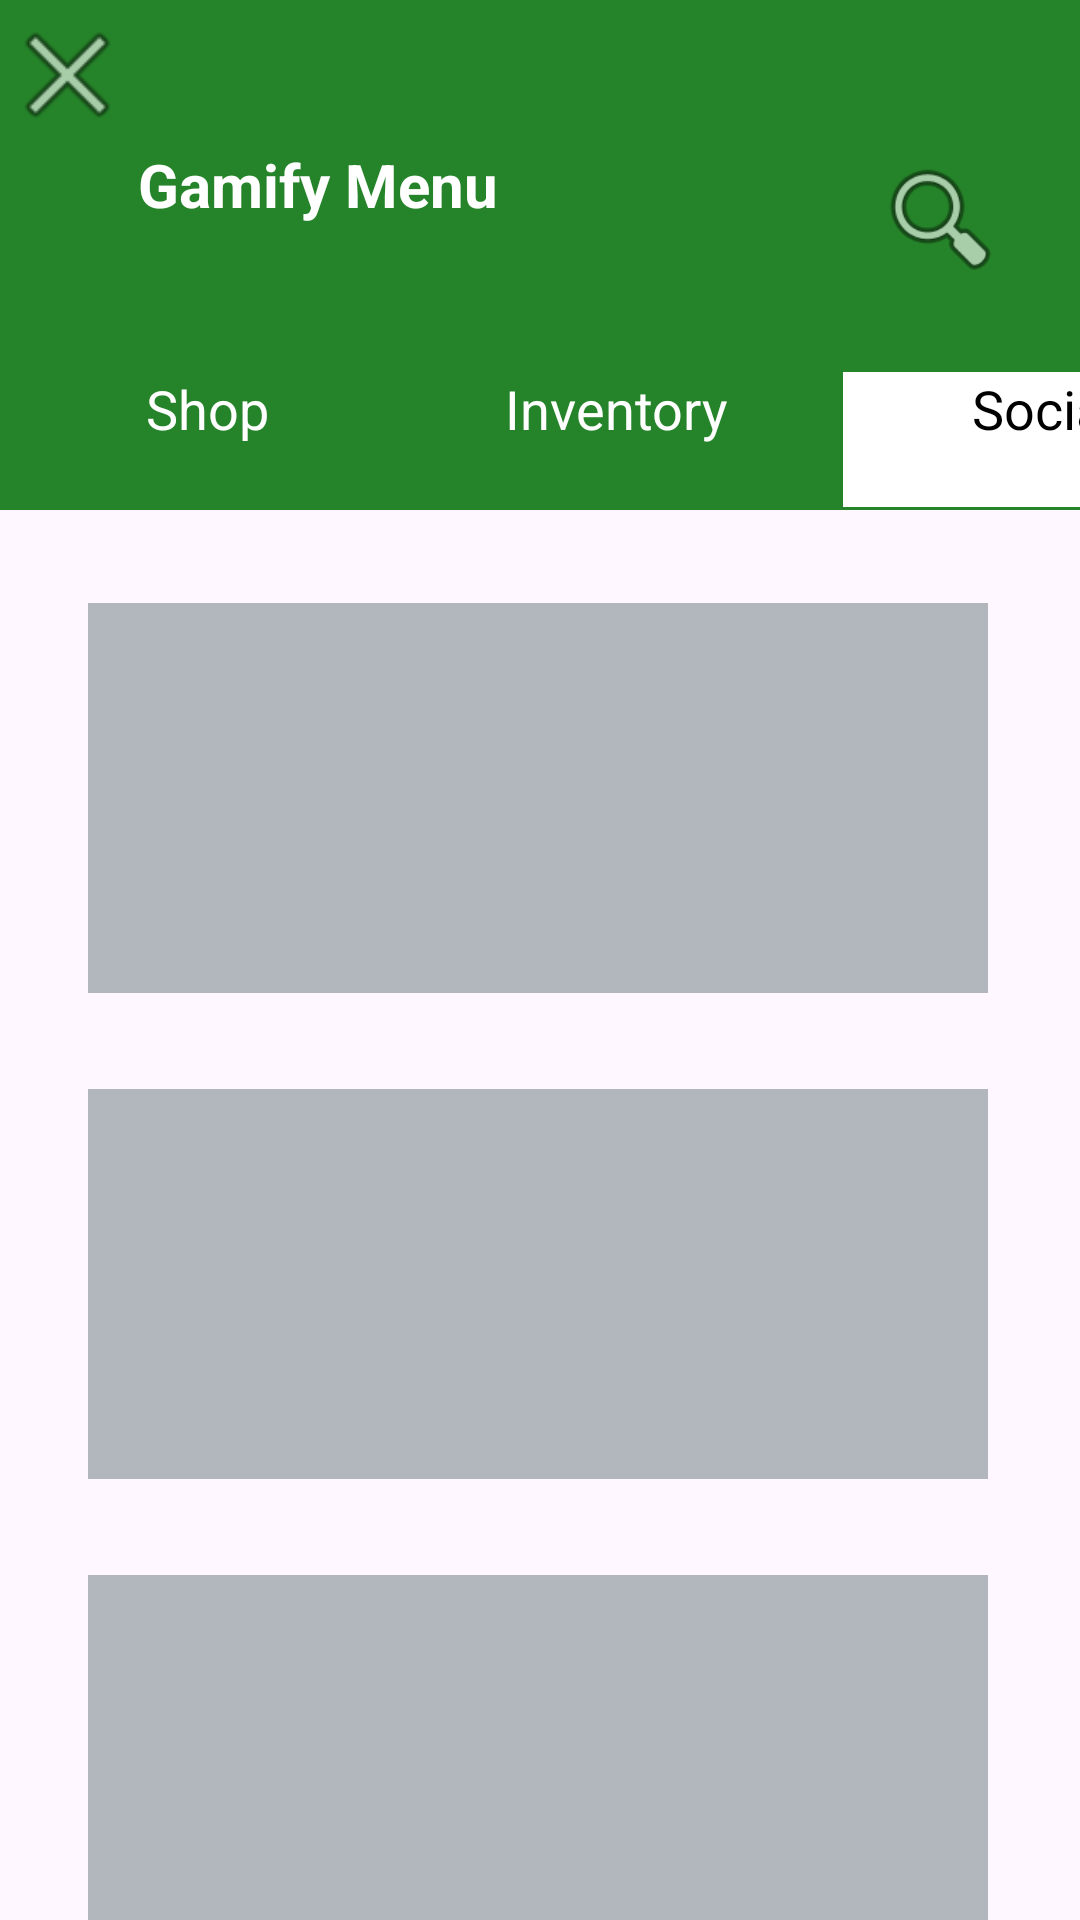

Where to tap for icons on this 1080×1920 app screen, as (x,y):
close clear cancel: (67,75)
search: (940,219)
